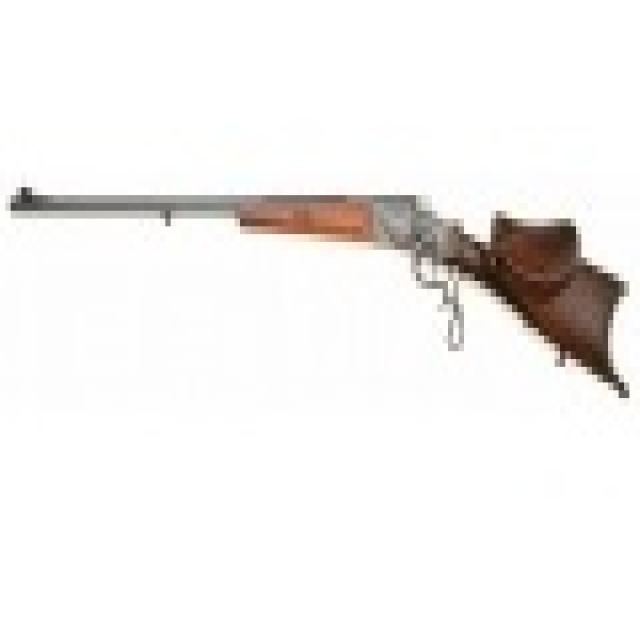Gun: (29, 143, 607, 394)
